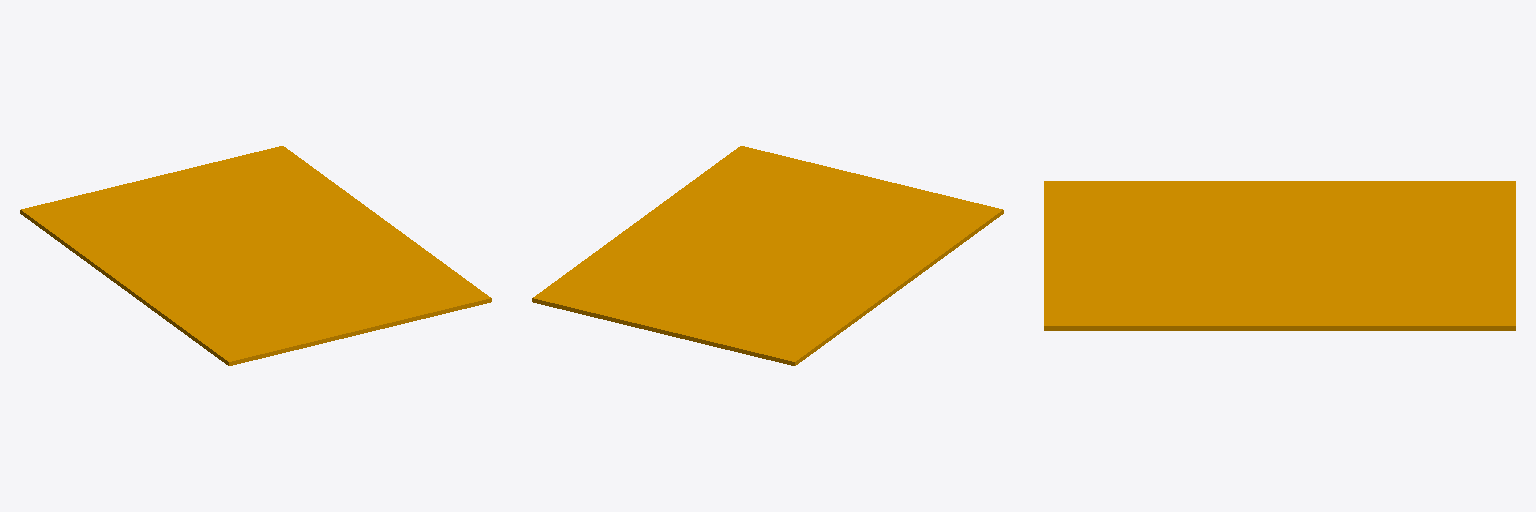
The robot description file, URDF, robot "region":
<?xml version="1.0"?>
<robot name="region">
  <material name="Wood">
    <color rgba="0.827, 0.675, 0.463, 1.0"/>
  </material>
  <material name="LightWood">
    <color rgba="0.992, 0.871, 0.682, 1.0"/>
  </material>
  <material name="Metal">
    <color rgba="0.718, 0.753, 0.749, 1.0"/>
  </material>
  <link name="base_link">
    <visual>
      <origin xyz="0 0 0" rpy="0 0 0" />
      <geometry>
        <box size="0.32 0.44 0.005" />
      </geometry>
      <material name="Wood"/>
    </visual>
    <collision>
      <origin xyz="0 0 0" rpy="0 0 0" />
      <geometry>
        <box size="0.32 0.44 0.005" />
      </geometry>
    </collision>
  </link>
</robot>

--- What the picture shows (computed from the rendered views, not written in the file) ---
Views: 3 orthographic renders of the robot side by side, from view 1: azimuth 30°, elevation 25°; view 2: azimuth 150°, elevation 25°; view 3: azimuth 270°, elevation 25°.
Model region with 1 links and 0 joints (none), rooted at base_link, posed all joints at 0.
Visible links, largest first — view 1: base_link; view 2: base_link; view 3: base_link.
Link boxes in pixels (x1,y1,x2,y2): base_link: (20,146,491,365); base_link: (532,146,1003,365); base_link: (1044,181,1515,330).
Size in the robot's own frame: 0.32 by 0.44 by 0.005 metres.
Geometry: primitives only (box / cylinder / sphere), no mesh files.
